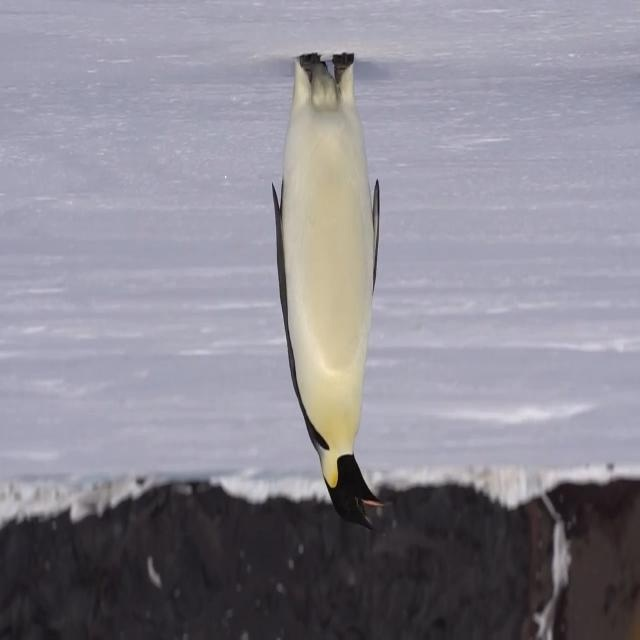penguin: (271, 51, 390, 531)
